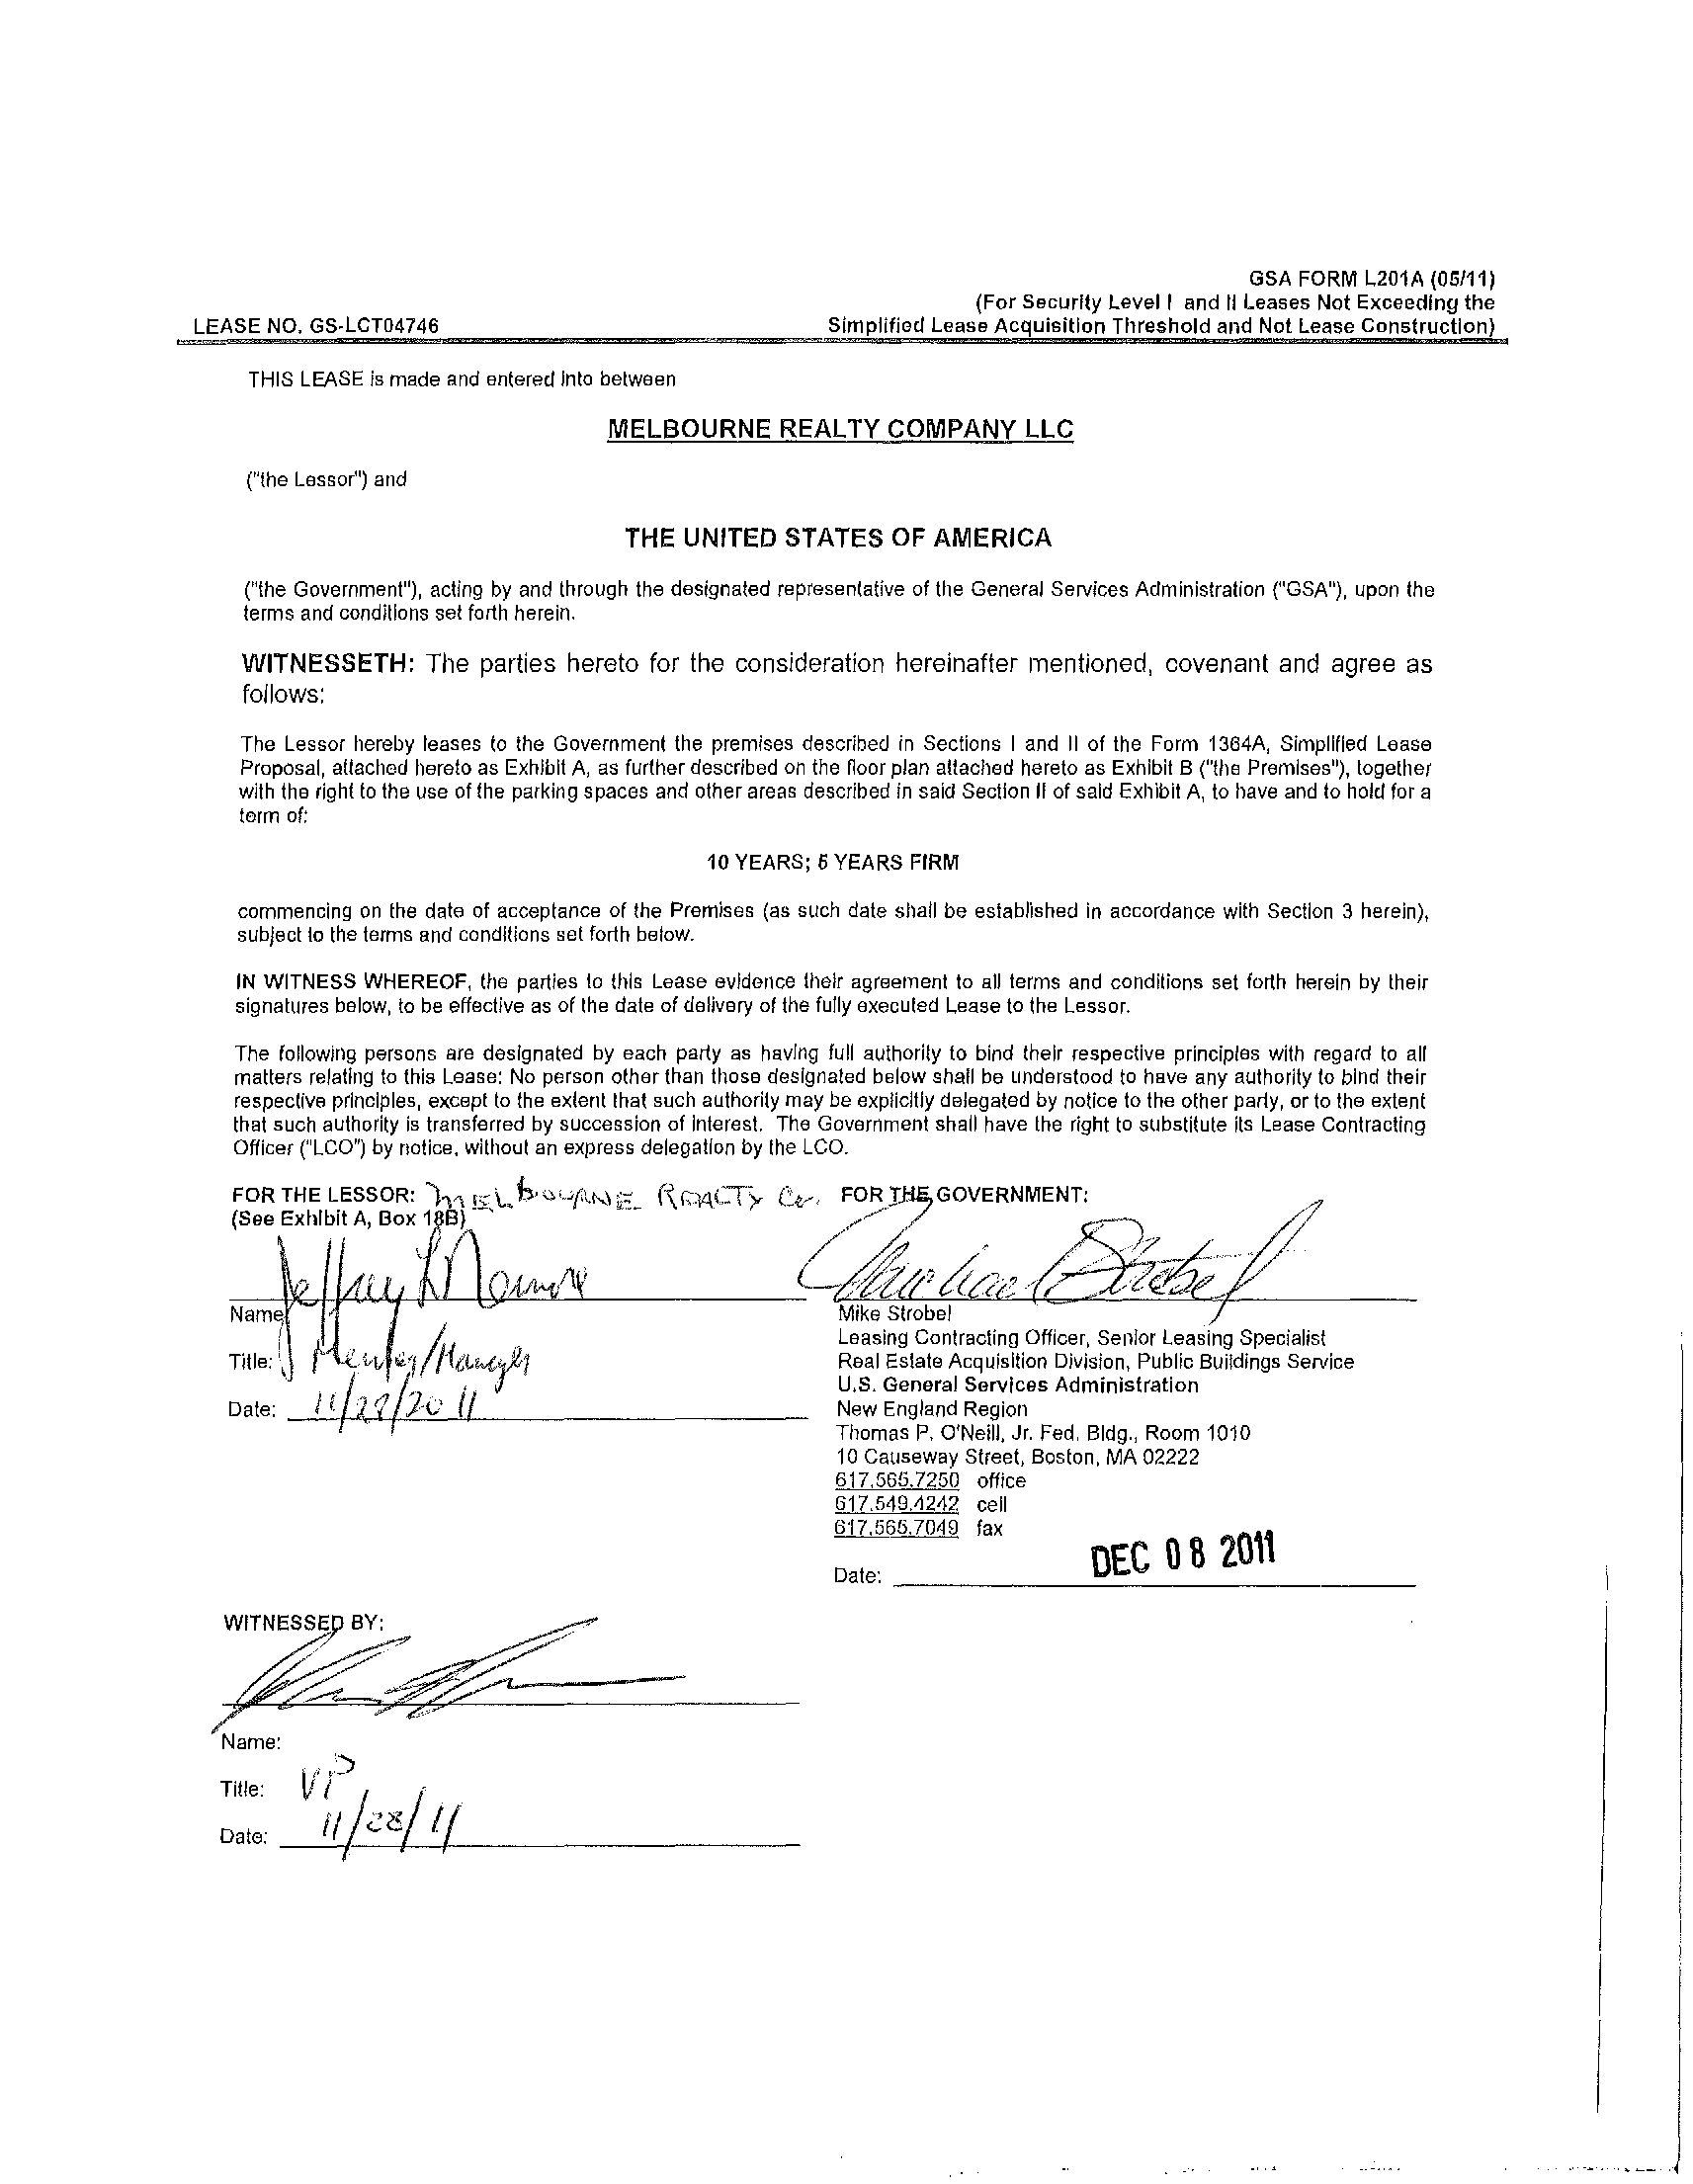handwritten: (789, 1198, 1331, 1326), (207, 1610, 741, 1721), (243, 1236, 612, 1347), (289, 1741, 491, 1863), (425, 1174, 837, 1216)
